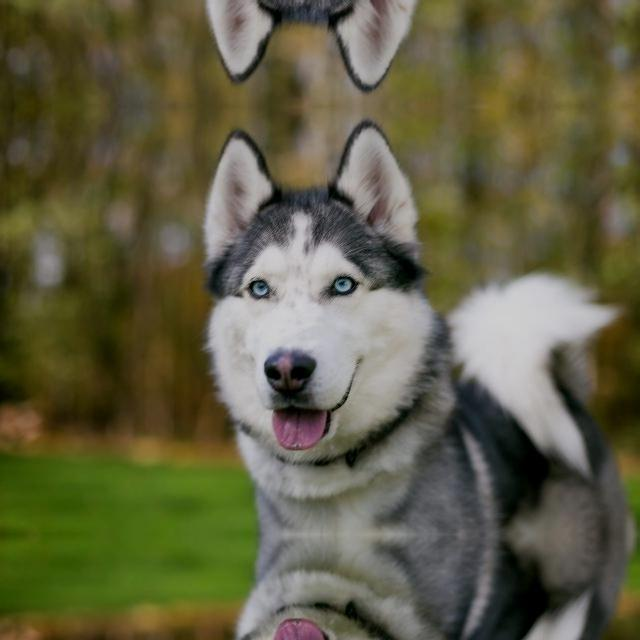dog: (190, 119, 592, 533), (190, 533, 593, 640), (190, 0, 593, 91)
